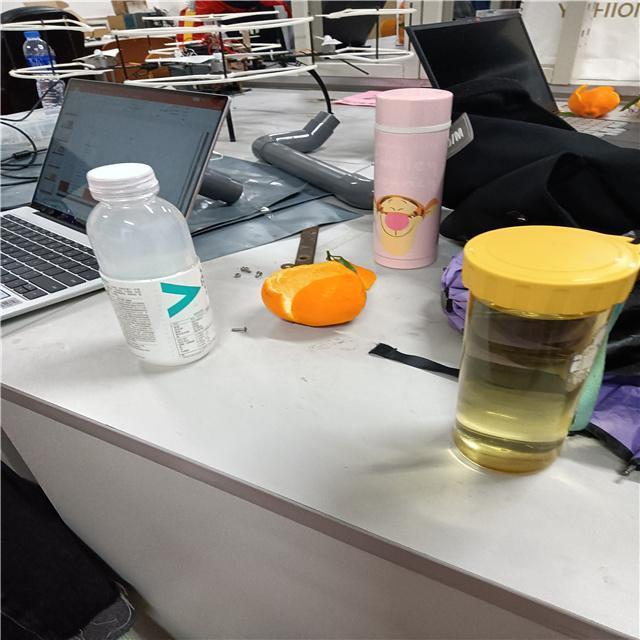orange peel: (259, 253, 380, 333)
